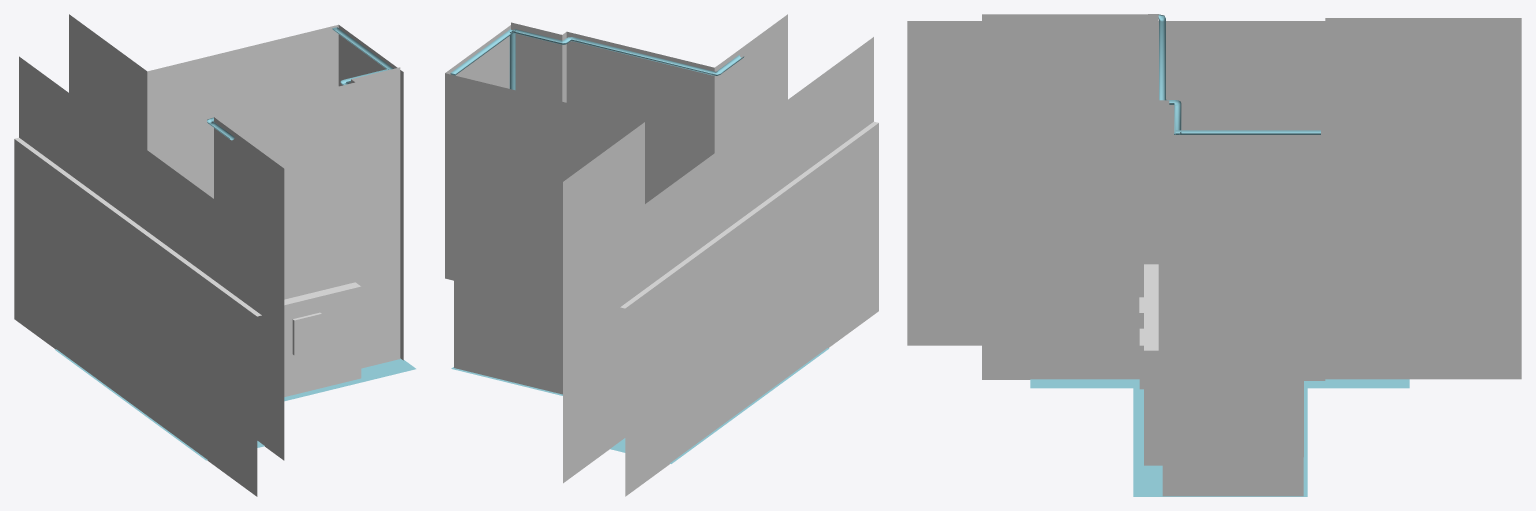
Rendered from f_alley_01.fbx.
3 views of the same model, side by side, from view 1: azimuth 30°, elevation 25°; view 2: azimuth 150°, elevation 25°; view 3: azimuth 270°, elevation 25° (orthographic). The views are drawn at different scales.
Parts seen in each view (by area): view 1: f_farWall.001, f_sideWall_02, f_sideWall_01, f_floor, f_gutter; view 2: f_farWall.001, f_sideWall_01, f_sideWall_02, f_gutter, f_floor; view 3: f_sideWall_01, f_sideWall_02, f_farWall.001, f_floor, f_gutter.
Boxes of the visible parts, x1=… form: f_farWall.001: x1=14, y1=56, x2=261, y2=496; f_sideWall_02: x1=214, y1=67, x2=400, y2=460; f_sideWall_01: x1=69, y1=14, x2=403, y2=360; f_floor: x1=55, y1=349, x2=415, y2=460; f_gutter: x1=207, y1=27, x2=393, y2=140; f_farWall.001: x1=620, y1=37, x2=878, y2=496; f_sideWall_01: x1=445, y1=25, x2=644, y2=483; f_sideWall_02: x1=511, y1=14, x2=787, y2=203; f_gutter: x1=450, y1=29, x2=744, y2=90; f_floor: x1=451, y1=348, x2=829, y2=463; f_sideWall_01: x1=1162, y1=18, x2=1521, y2=496; f_sideWall_02: x1=982, y1=14, x2=1169, y2=465; f_farWall.001: x1=907, y1=21, x2=1325, y2=345; f_floor: x1=1030, y1=379, x2=1409, y2=496; f_gutter: x1=1158, y1=14, x2=1320, y2=134.
Bounding box in the file's own units: 786 × 465 × 517.
